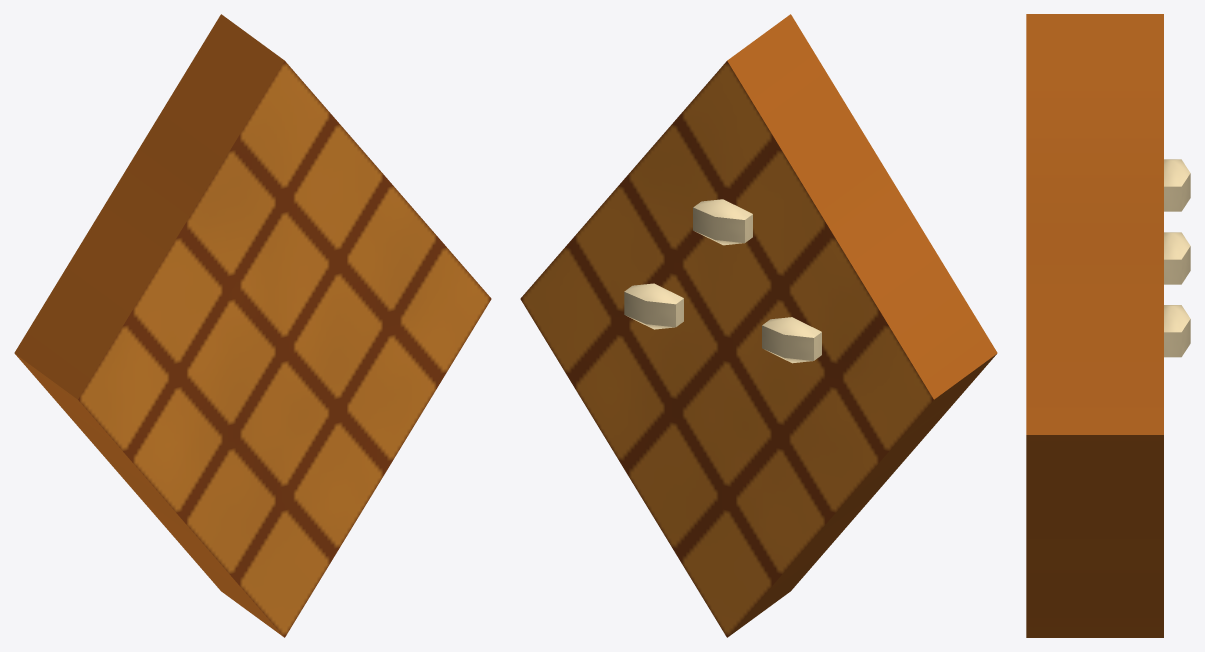
File: pickup_halva.glb
The picture shows the model from 3 angles, left to right: view 1: azimuth 30°, elevation 25°; view 2: azimuth 150°, elevation 25°; view 3: azimuth 270°, elevation 25°; orthographic projection. The views are drawn at different scales.
Visible parts, largest first — view 1: pickup_halva; view 2: pickup_halva; view 3: pickup_halva.
Boxes of the visible parts, left/top/right/bottom form: pickup_halva: left=14, top=14, right=491, bottom=637; pickup_halva: left=520, top=14, right=997, bottom=637; pickup_halva: left=1026, top=14, right=1190, bottom=637.
Bounding box in the file's own units: 0.3 × 0.4 × 0.0954.
1 material, 1 textured.
